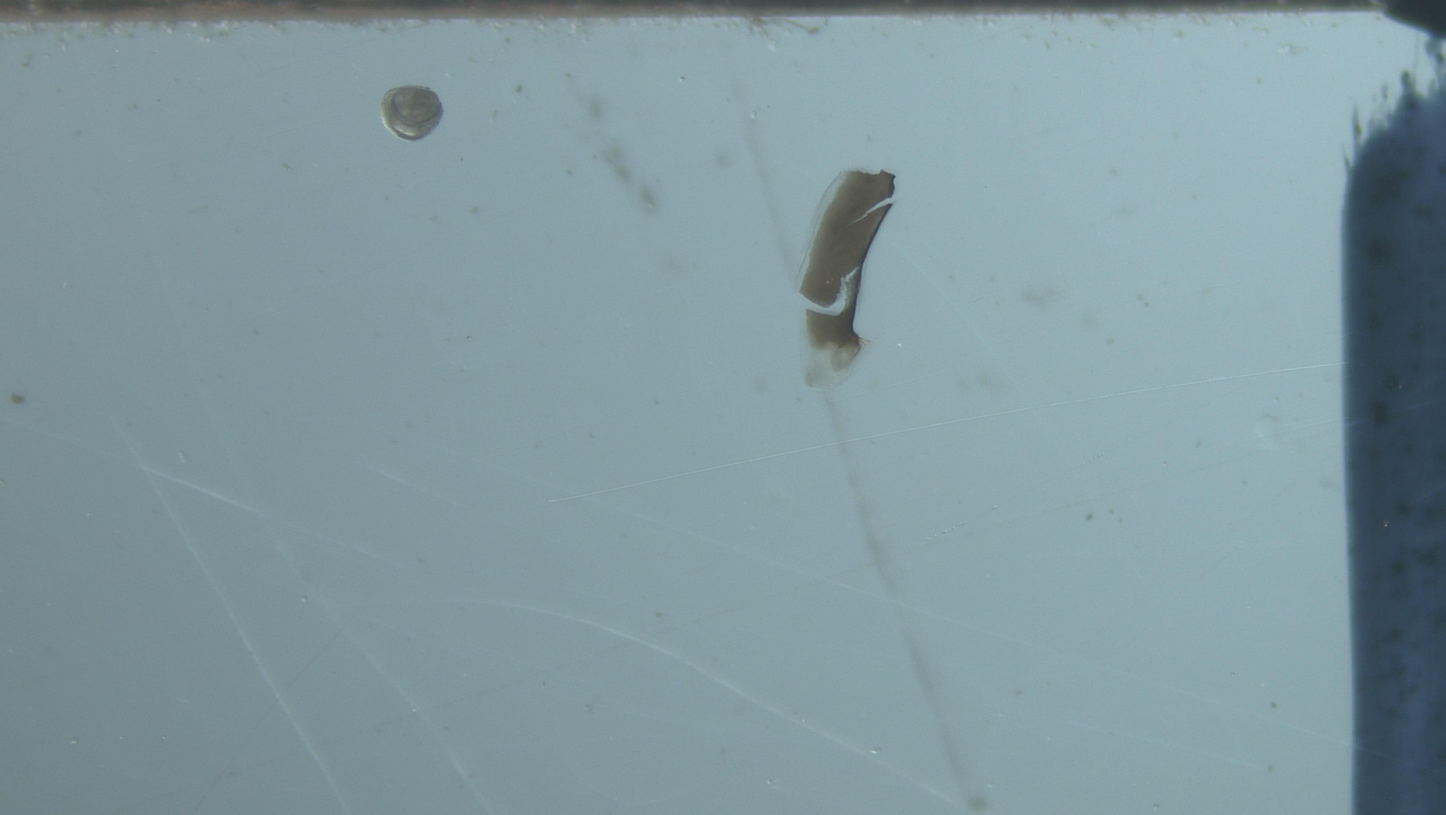live: (381, 86, 443, 141)
